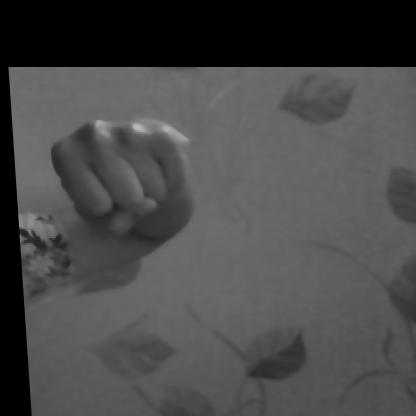fist: (24, 81, 212, 305)
